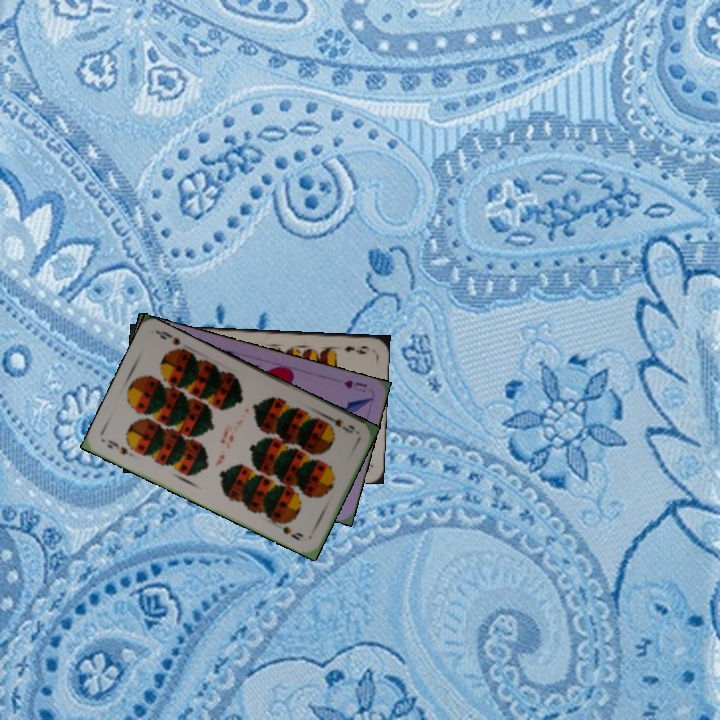E9: (341, 342, 372, 357)
HU: (340, 376, 370, 395)
S9: (321, 411, 357, 436), (103, 436, 131, 457)
